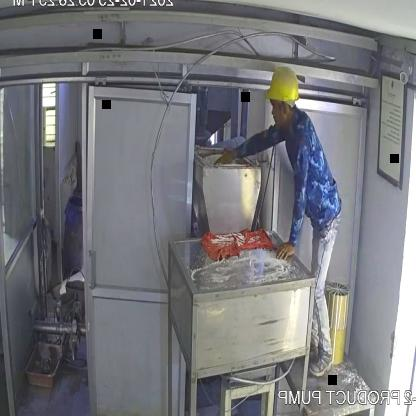helmet: (265, 64, 302, 110)
